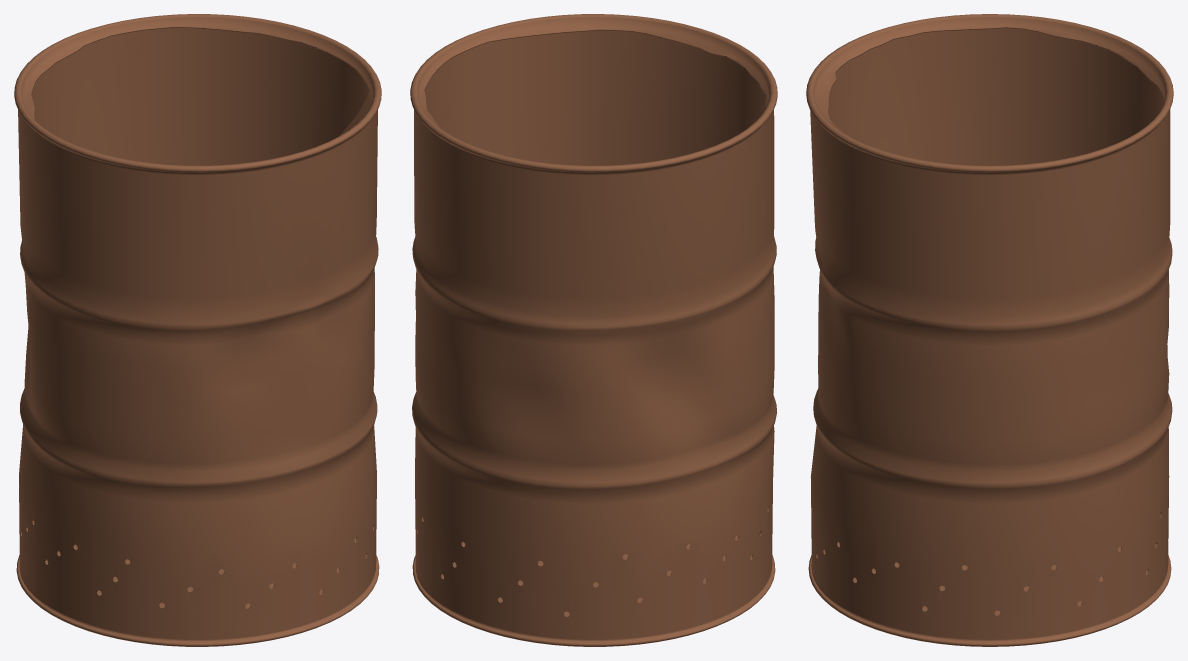
File: barrel_stove.gltf
3 views of the same model, side by side, from view 1: azimuth 30°, elevation 25°; view 2: azimuth 150°, elevation 25°; view 3: azimuth 270°, elevation 25° (orthographic).
Visible parts, largest first — view 1: barrel_stove; view 2: barrel_stove; view 3: barrel_stove.
Part boxes in pixels (x1,y1,x2,y2): barrel_stove: (14,14,381,646); barrel_stove: (410,14,777,646); barrel_stove: (806,14,1173,646).
Bounding box in the file's own units: 0.5926 × 0.8556 × 0.5926.
